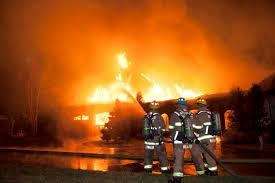fire: (83, 51, 207, 110)
